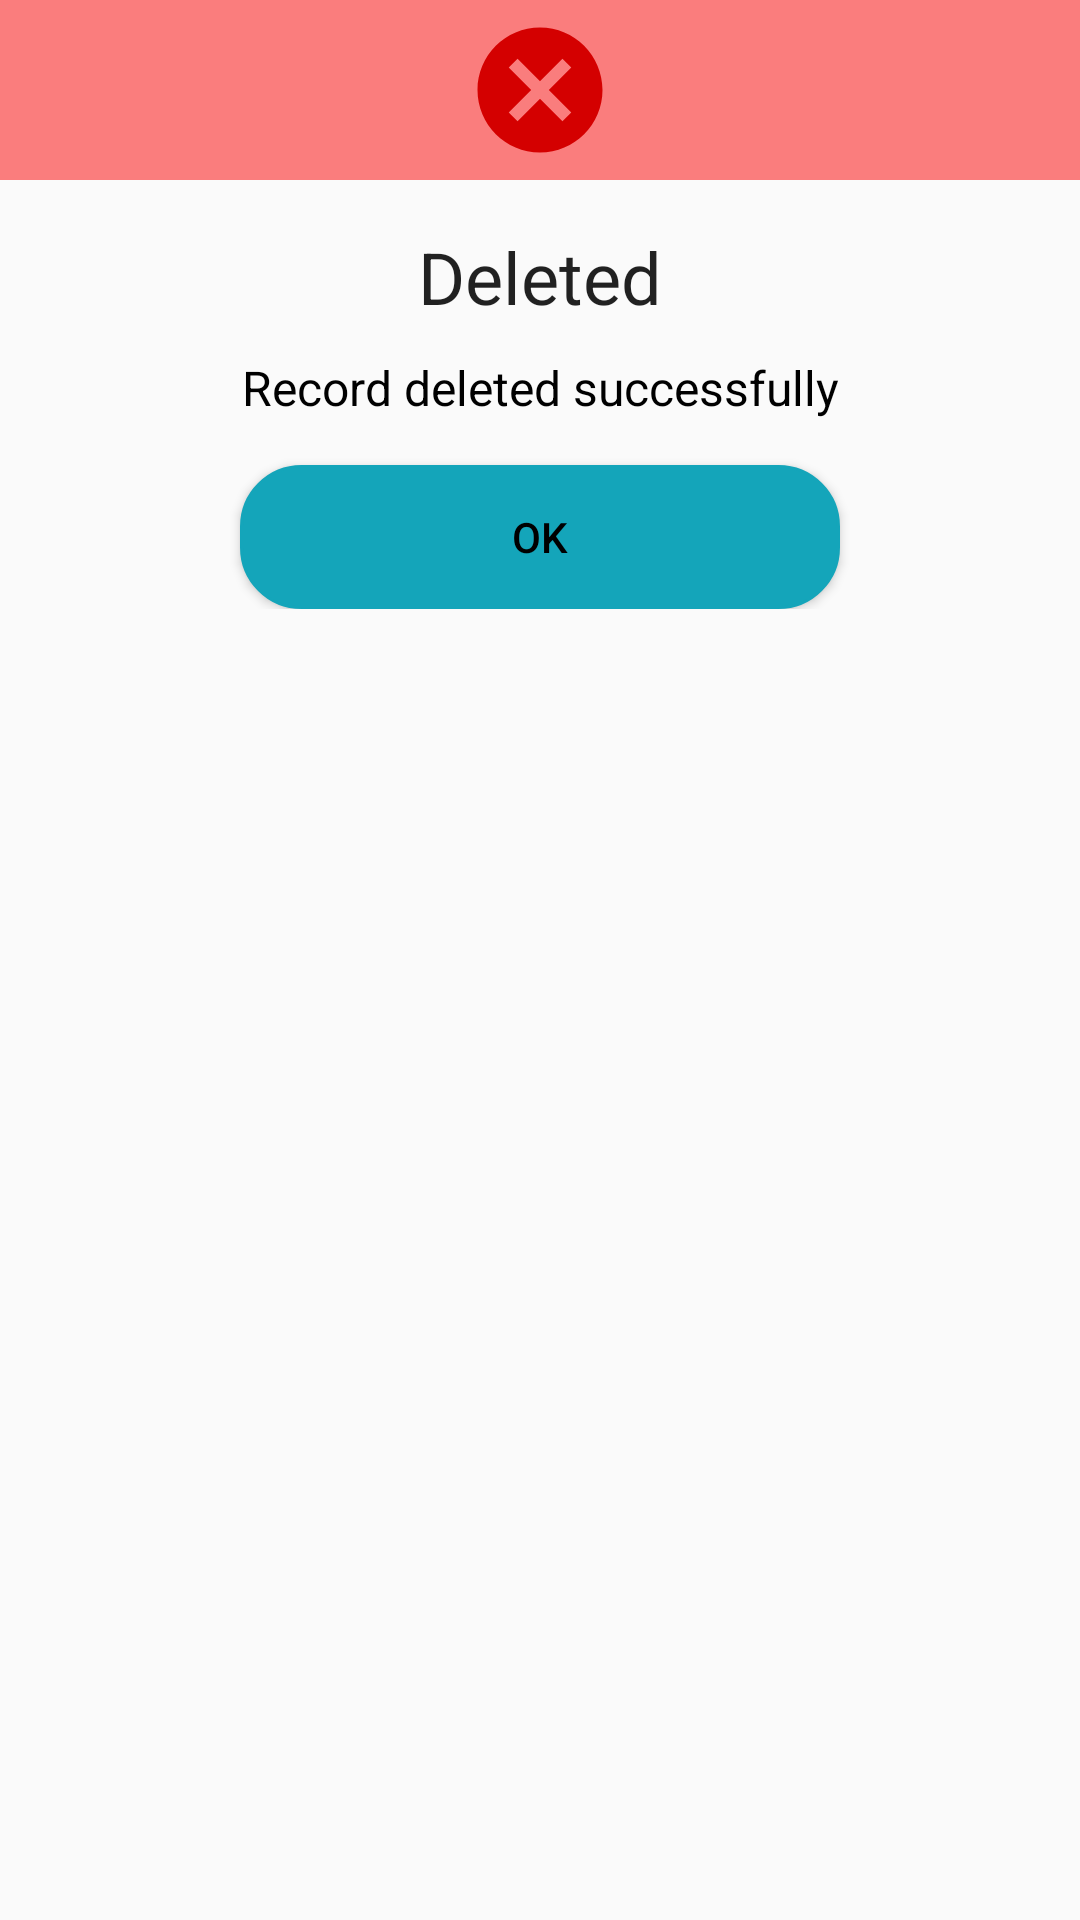

Point at icon controls on the screen. Image size 1080 x 1920, points as [x,y].
cancel: [540,90]
